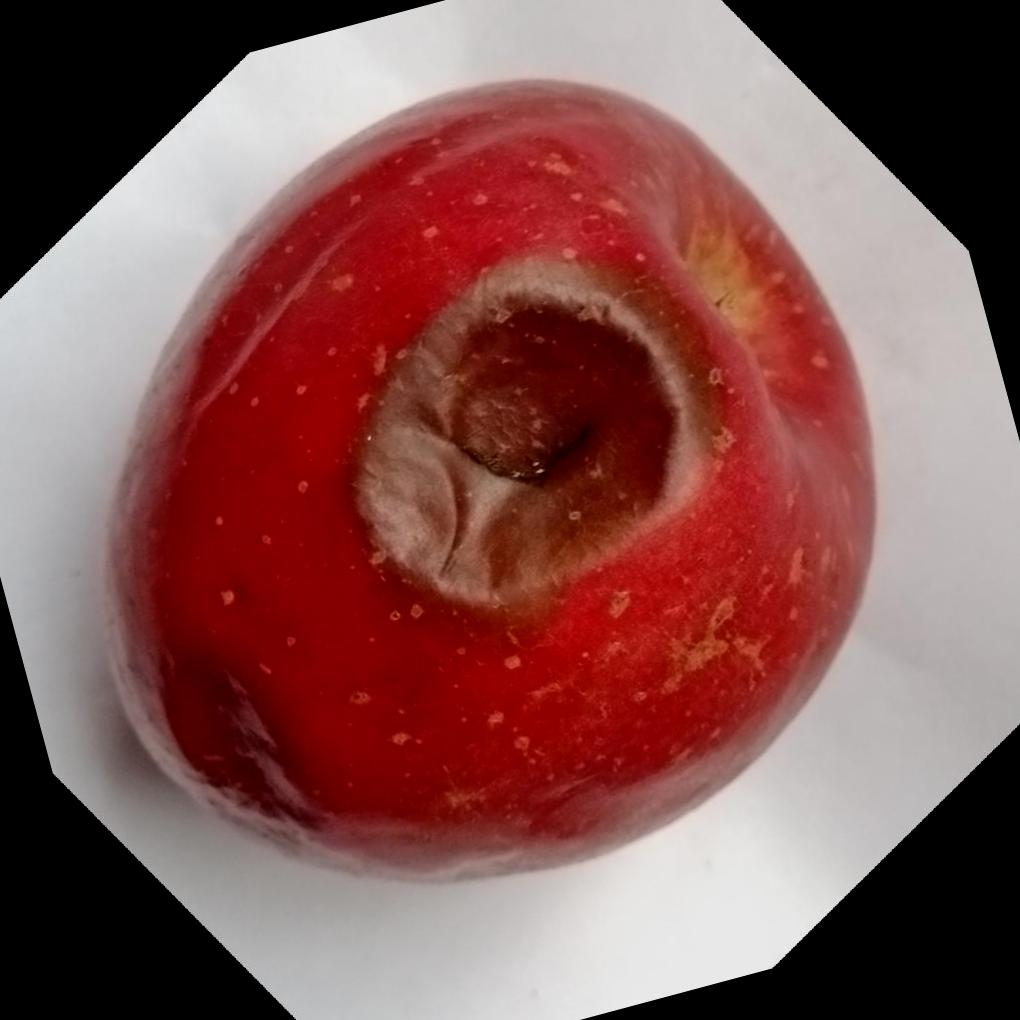FreshOrange: (99, 77, 879, 891)
